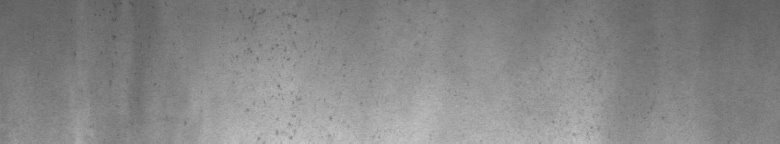ib: (236, 9, 332, 120)
